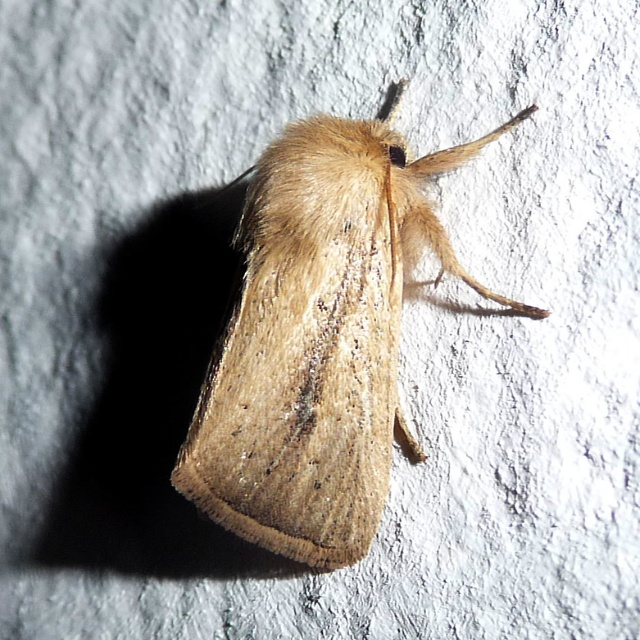Moths and butterflies: (168, 72, 555, 569)
